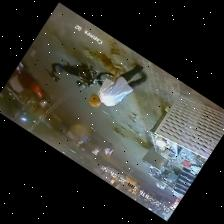person: (88, 63, 147, 105), (79, 126, 94, 142), (39, 95, 50, 106), (105, 144, 114, 156), (92, 145, 100, 154)
